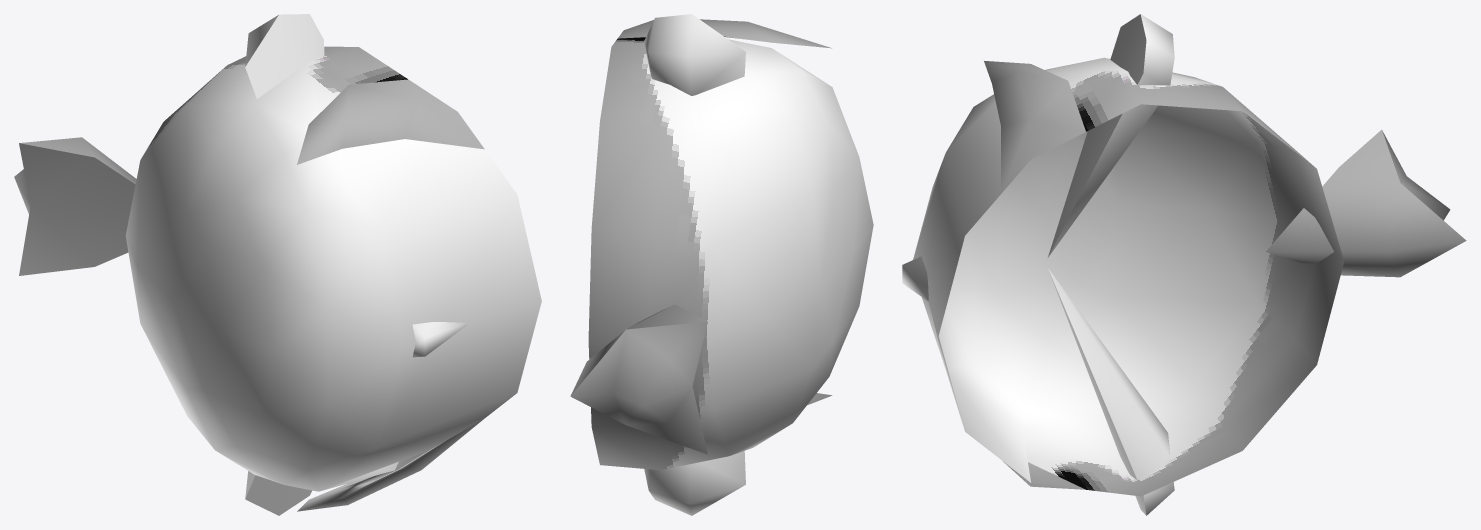
File: girl08b.dae
3 views of the same model, side by side, from view 1: azimuth 30°, elevation 25°; view 2: azimuth 150°, elevation 25°; view 3: azimuth 270°, elevation 25° (orthographic).
Parts seen in each view (by area): view 1: girl08b; view 2: girl08b; view 3: girl08b.
Part boxes in pixels (x1,y1,x2,y2): girl08b: [14, 14, 541, 515]; girl08b: [570, 14, 873, 515]; girl08b: [902, 14, 1466, 515].
Bounding box in the file's own units: 16.63 × 26.71 × 27.57.
3 materials, 1 textured.
